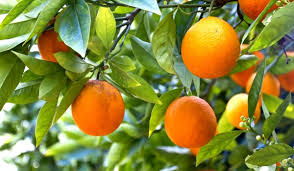orange: (68, 79, 128, 139), (161, 93, 222, 150), (35, 13, 87, 68)
